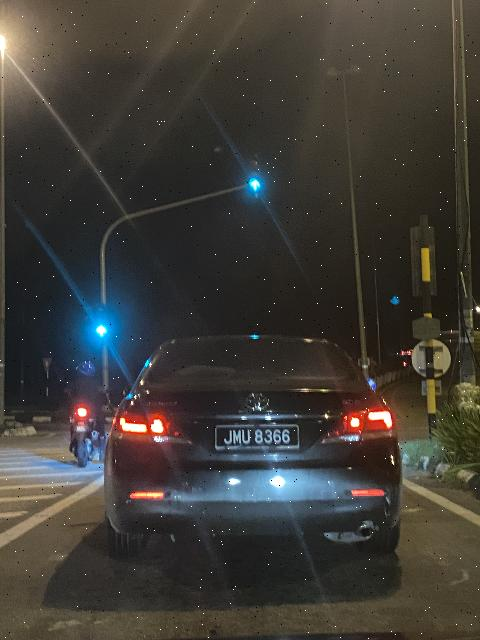License_Plate: (213, 424, 303, 455)
car: (100, 333, 407, 569)
